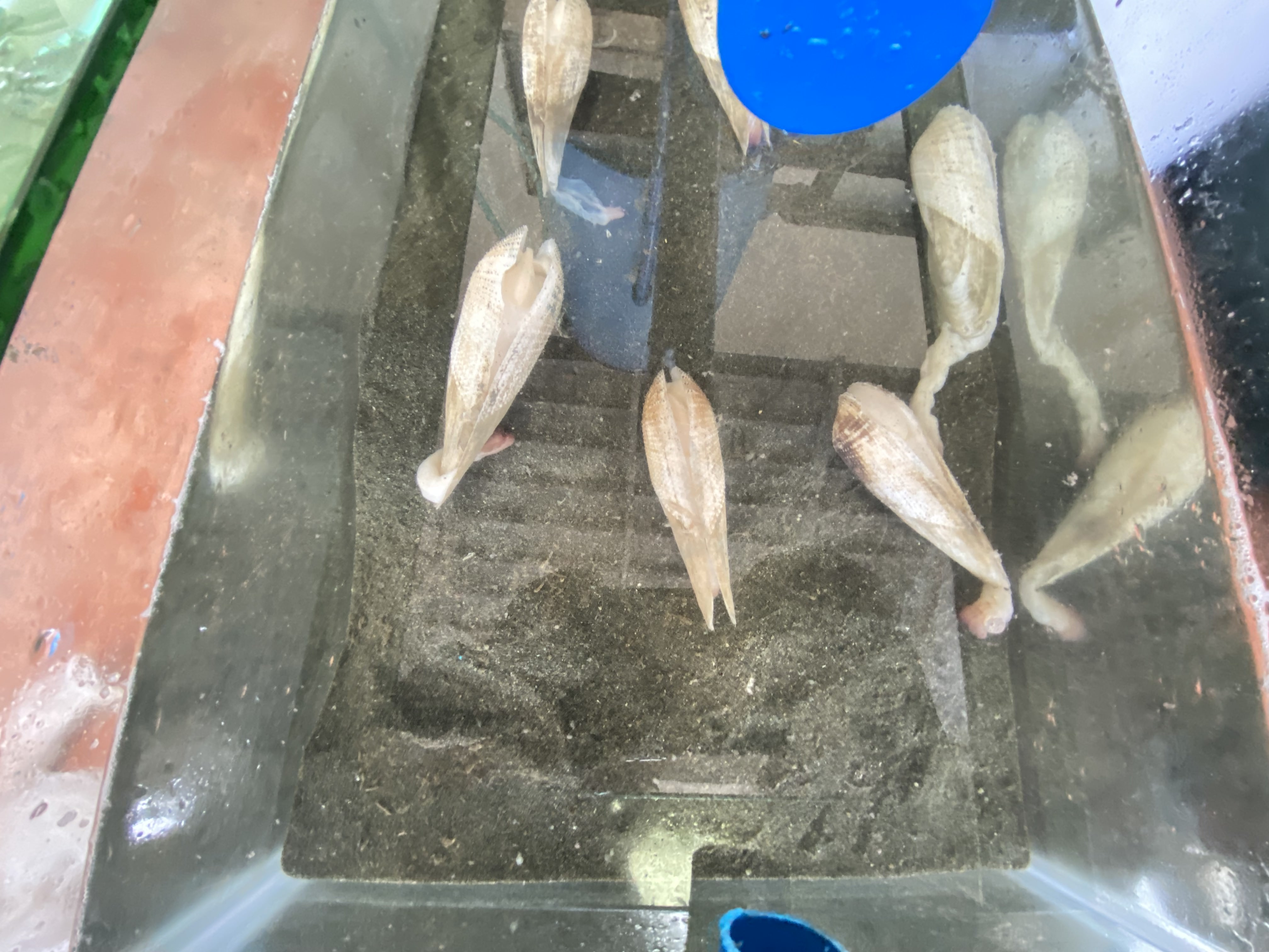At risk: (833, 382, 1012, 637), (417, 226, 564, 506), (911, 105, 1004, 449), (642, 359, 736, 630), (521, 0, 623, 224), (680, 0, 769, 148)
